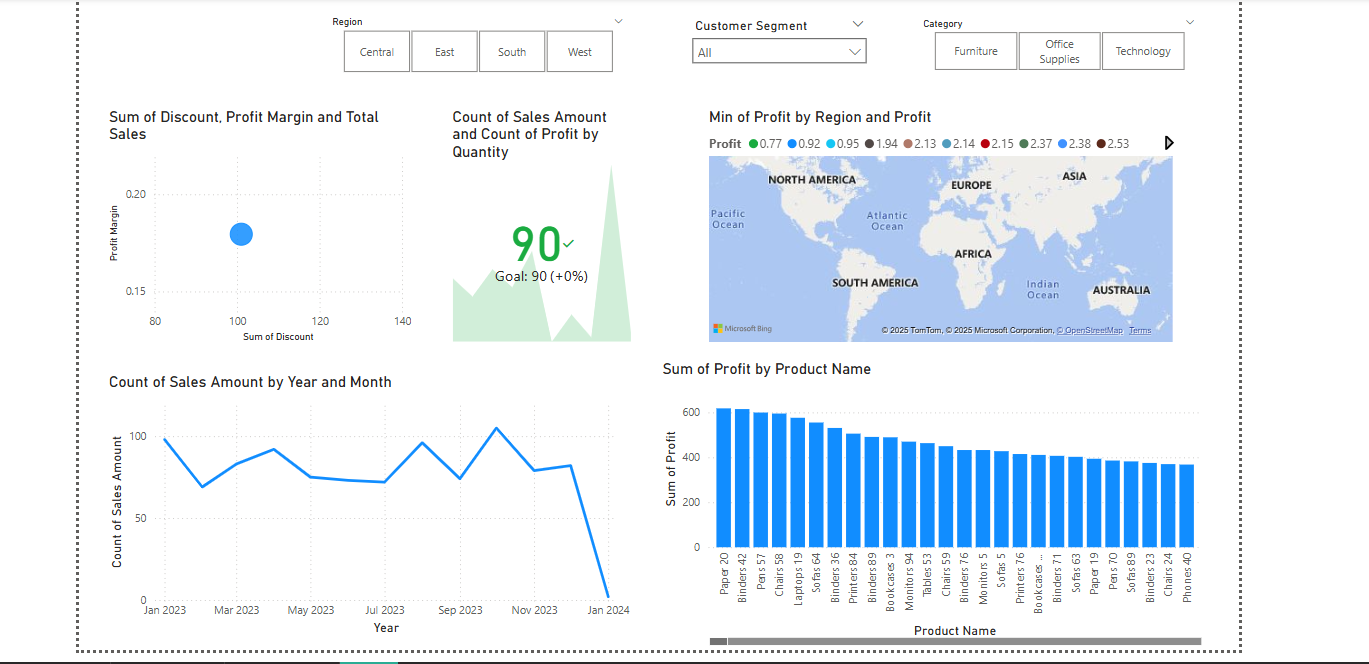

This screenshot's page, from the dashboard's own definition file:
{"tool":"powerbi","page":{"name":"Page 1","canvas":[1280,720],"ordinal":0},"visuals":[{"type":"lineChart","fields":{"Y":["CountNonNull(Sheet1.Sales Amount)"],"Category":["Sheet1.Order Date.Variation.Date Hierarchy.Year","Sheet1.Order Date.Variation.Date Hierarchy.Month"]},"box":[28.3,413.3,585,293.3],"z":0},{"type":"filledMap","fields":{"Category":["Sheet1.Region"],"Series":["Sheet1.Profit"]},"box":[690.8,120.9,523.4,263.4],"z":1000},{"type":"slicer","fields":{"Values":["Sheet1.Region"]},"box":[266.7,15,346.7,73.3],"z":3000},{"type":"slicer","fields":{"Values":["Sheet1.Customer Segment"]},"box":[668.3,16.7,211.7,73.3],"z":4000},{"type":"slicer","fields":{"Values":["Sheet1.Category"]},"box":[920,16.7,325,68.3],"z":5000},{"type":"columnChart","fields":{"Category":["Sheet1.Product Name"],"Y":["Sum(Sheet1.Profit)"]},"box":[640,400,605,320],"z":6000},{"type":"kpi","fields":{"Indicator":["CountNonNull(Sheet1.Sales Amount)"],"TrendLine":["Sheet1.Quantity"],"Goal":["CountNonNull(Sheet1.Profit)"]},"box":[406.7,121.7,206.7,263.3],"z":7000},{"type":"scatterChart","fields":{"X":["Sum(Sheet1.Discount)"],"Y":["Sheet1.Profit Margin"],"Size":["Sheet1.Total Sales"]},"box":[28.3,121.7,343.3,263.3],"z":8000}]}

Visuals, with their boxes on the page's 1280x720 design canvas (x1, y1, x2, y2). These are canvas units, not pixel positions in the 1369x664 screenshot, which may show the page scaled, cropped or inside an application window:
lineChart - CountNonNull(Sheet1.Sales Amount) x Sheet1.Order Date.Variation.Date Hierarchy.Year: 28, 413, 613, 707
filledMap - Sheet1.Region x Sheet1.Profit: 691, 121, 1214, 384
slicer - Sheet1.Region: 267, 15, 613, 88
slicer - Sheet1.Customer Segment: 668, 17, 880, 90
slicer - Sheet1.Category: 920, 17, 1245, 85
columnChart - Sheet1.Product Name x Sum(Sheet1.Profit): 640, 400, 1245, 720
kpi - CountNonNull(Sheet1.Sales Amount) x Sheet1.Quantity: 407, 122, 613, 385
scatterChart - Sum(Sheet1.Discount) x Sheet1.Profit Margin: 28, 122, 372, 385
